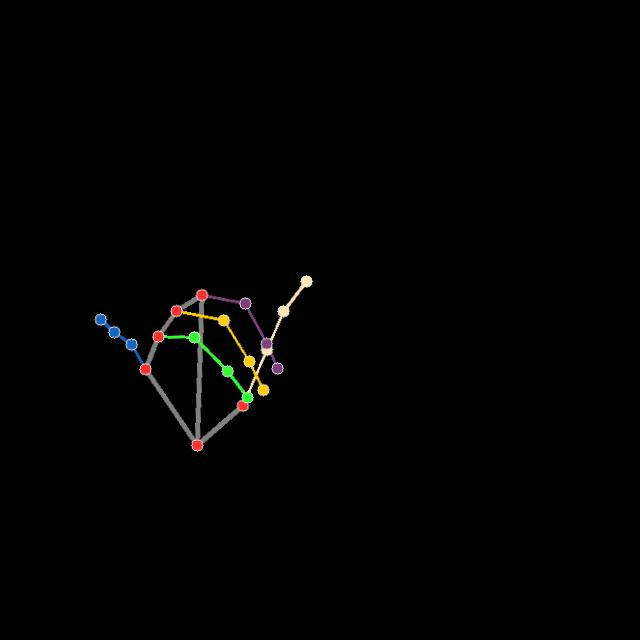skr: (90, 271, 318, 455)
